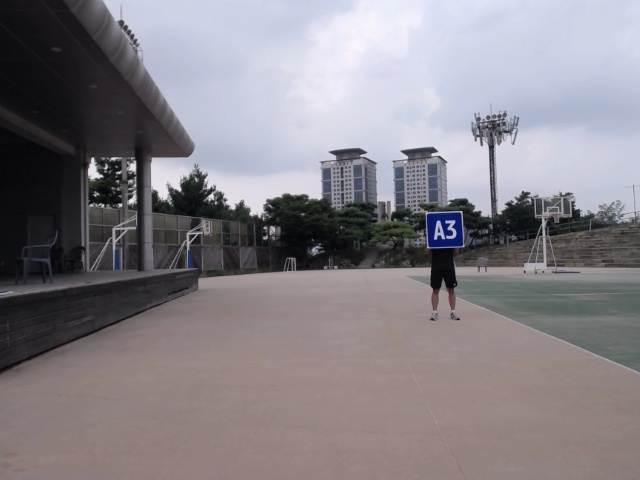delivery_a3: (426, 210, 464, 248)
